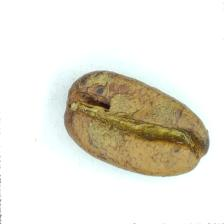NG: (75, 71, 152, 154)
